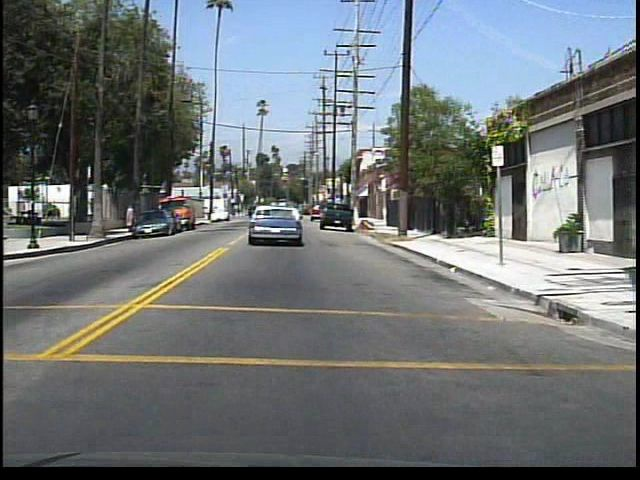person: (87, 197, 101, 223), (43, 198, 58, 222), (125, 201, 136, 230)
